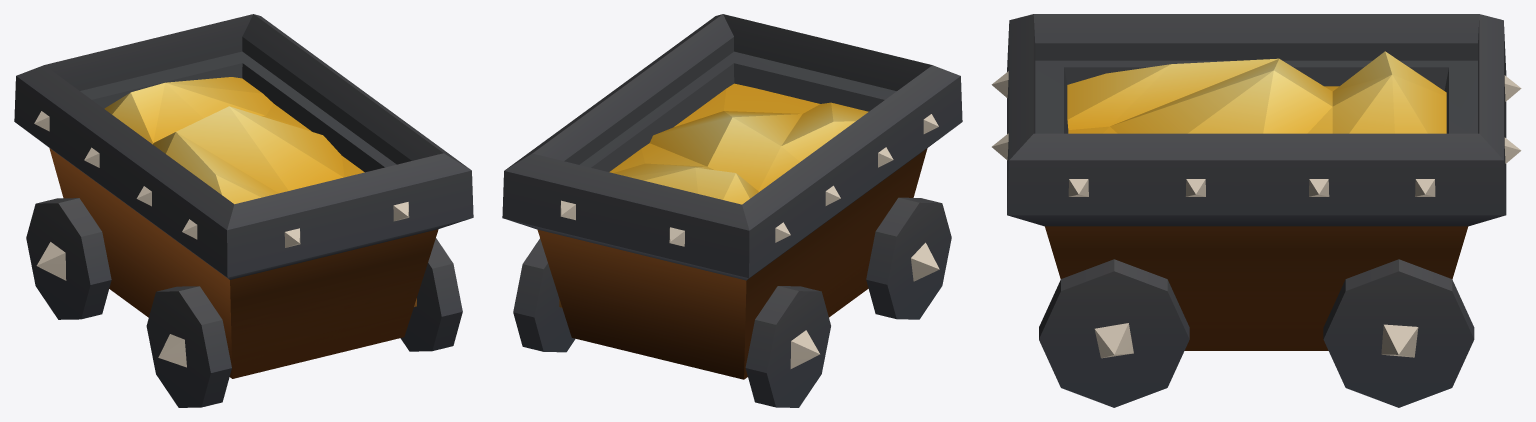
Rendered from mine_cart_and_gold.glb.
3 renders of one model, left to right at view 1: azimuth 30°, elevation 25°; view 2: azimuth 150°, elevation 25°; view 3: azimuth 270°, elevation 25°, orthographic. The views are drawn at different scales.
Visible parts, largest first — view 1: Minecart_LPEP_Atlas01_0, MineCartPayload_Gold_LPEP_Atlas01_0; view 2: Minecart_LPEP_Atlas01_0, MineCartPayload_Gold_LPEP_Atlas01_0; view 3: Minecart_LPEP_Atlas01_0, MineCartPayload_Gold_LPEP_Atlas01_0.
Part boxes in pixels (x1,y1,x2,y2): Minecart_LPEP_Atlas01_0: [14, 14, 473, 407]; MineCartPayload_Gold_LPEP_Atlas01_0: [104, 77, 364, 204]; Minecart_LPEP_Atlas01_0: [502, 14, 962, 407]; MineCartPayload_Gold_LPEP_Atlas01_0: [609, 83, 868, 204]; Minecart_LPEP_Atlas01_0: [991, 14, 1521, 407]; MineCartPayload_Gold_LPEP_Atlas01_0: [1067, 51, 1446, 133].
Size of the model in its own units: 52.66 by 38.33 by 70.27.
Materials: 1 (1 with a texture image).
